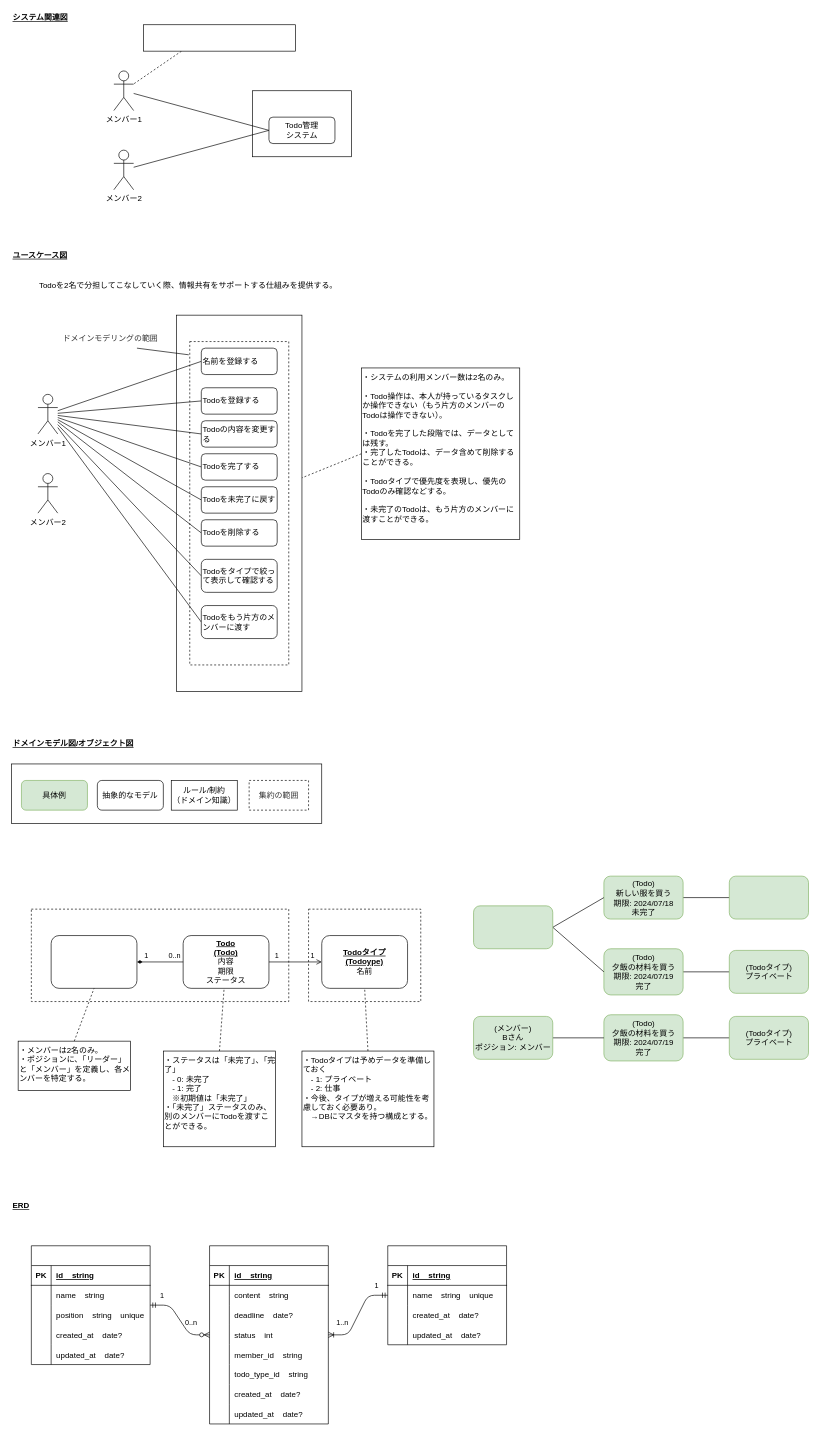
This 820x1436 diagram has some shape labels left out. The shapes that lost their labels are listed below. From the top down, each one's box as (x1, y1, x2, y2) in pixels, then its label:
(143, 24, 295, 51): ・タスクを二人で分担して対応する。
(252, 90, 351, 157): 開発対象システム
(176, 314, 302, 691): Todo管理システム
(11, 763, 322, 823): 凡例
(729, 875, 808, 919): (Todoタイプ) 仕事
(473, 905, 553, 949): (メンバー) Aさん ポジション: リーダー
(50, 935, 137, 988): メンバー (Member) 名前 ポジション
(31, 908, 289, 1002): メンバー集約
(308, 908, 421, 1002): Todoタイプ集約
(31, 1245, 150, 1365): members
(387, 1245, 507, 1345): todo_types
(209, 1245, 328, 1424): todos
